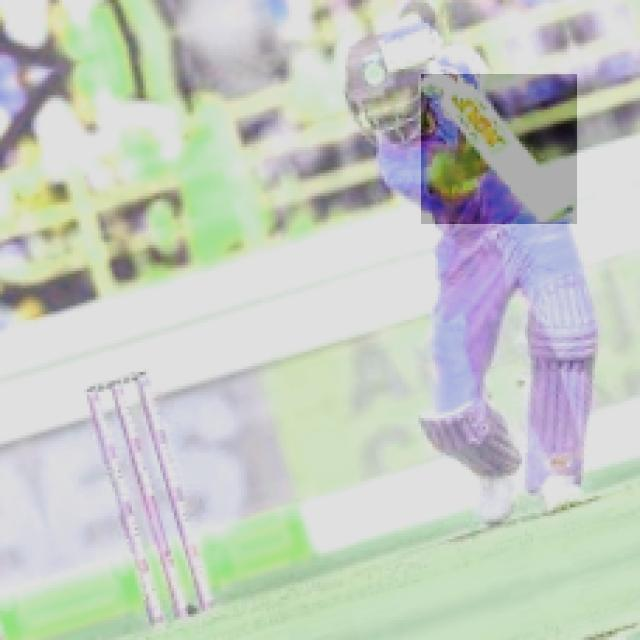bat: (420, 70, 578, 224)
toe: (538, 201, 578, 224)
